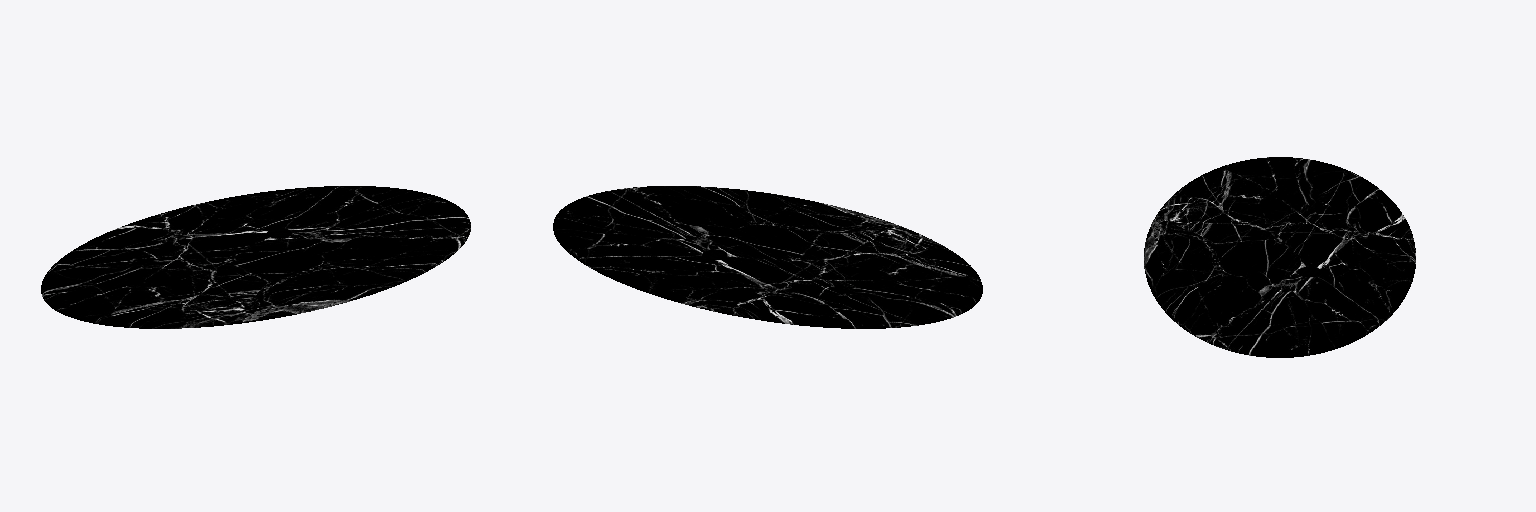
3 views of the same model, side by side, from view 1: azimuth 30°, elevation 25°; view 2: azimuth 150°, elevation 25°; view 3: azimuth 270°, elevation 25° (orthographic).
Visible parts, largest first — view 1: tavolo_piano.1; view 2: tavolo_piano.1; view 3: tavolo_piano.1.
Part boxes in pixels (x1,y1,x2,y2): tavolo_piano.1: (41,186,470,328); tavolo_piano.1: (553,186,982,328); tavolo_piano.1: (1144,157,1415,357).
Size of the model in its own units: 255 by 3 by 147.
Materials: 1 (1 with a texture image).